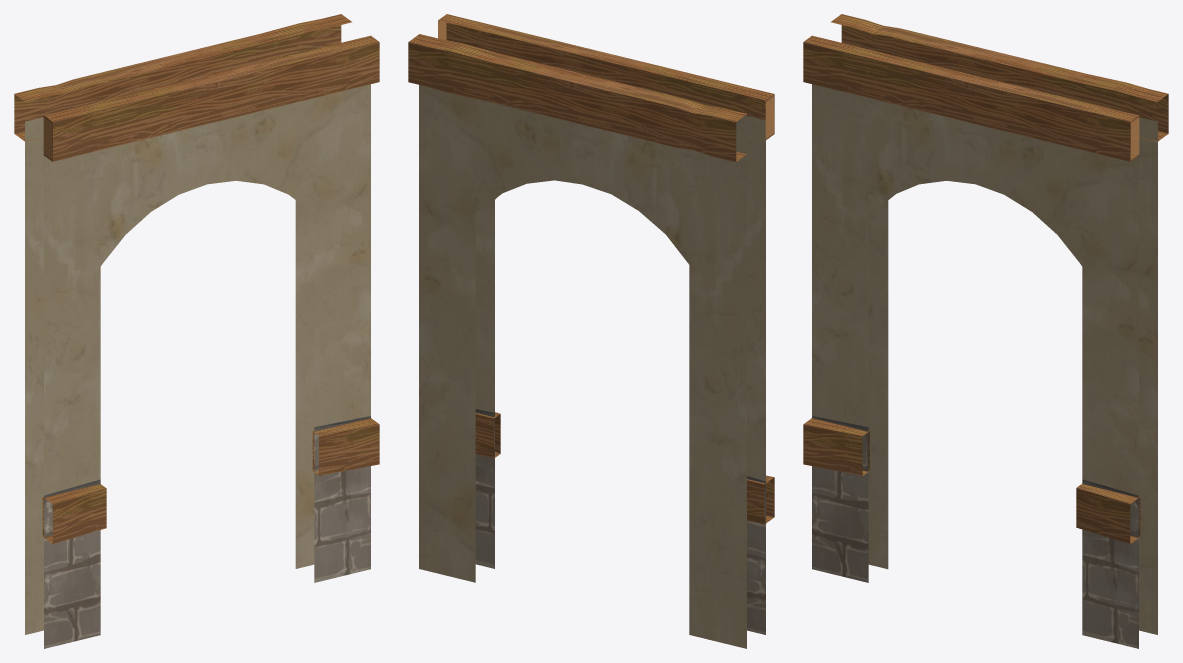
The model's file is Wall_Plaster_Door_Round.glb.
The picture shows the model from 3 angles, left to right: view 1: azimuth 30°, elevation 25°; view 2: azimuth 150°, elevation 25°; view 3: azimuth 330°, elevation 25°; orthographic projection.
Parts seen in each view (by area): view 1: Wall_Plaster_Door_Round; view 2: Wall_Plaster_Door_Round; view 3: Wall_Plaster_Door_Round.
Boxes of the visible parts, x1,y1,x2,y2 form: Wall_Plaster_Door_Round: (14,14,379,648); Wall_Plaster_Door_Round: (408,14,774,648); Wall_Plaster_Door_Round: (803,14,1168,648).
Bounding box in the file's own units: 2 × 3.12 × 0.4065.
3 materials, 3 textured.
